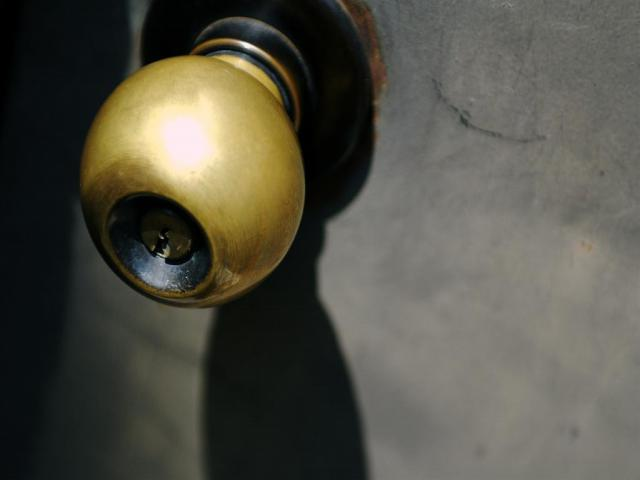Door-handle: (78, 0, 390, 309)
